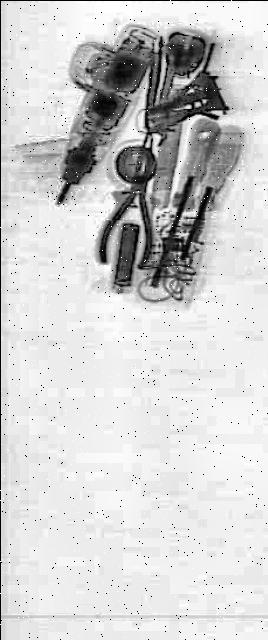Pliers: (94, 114, 168, 302)
Wrench: (143, 42, 181, 154)
